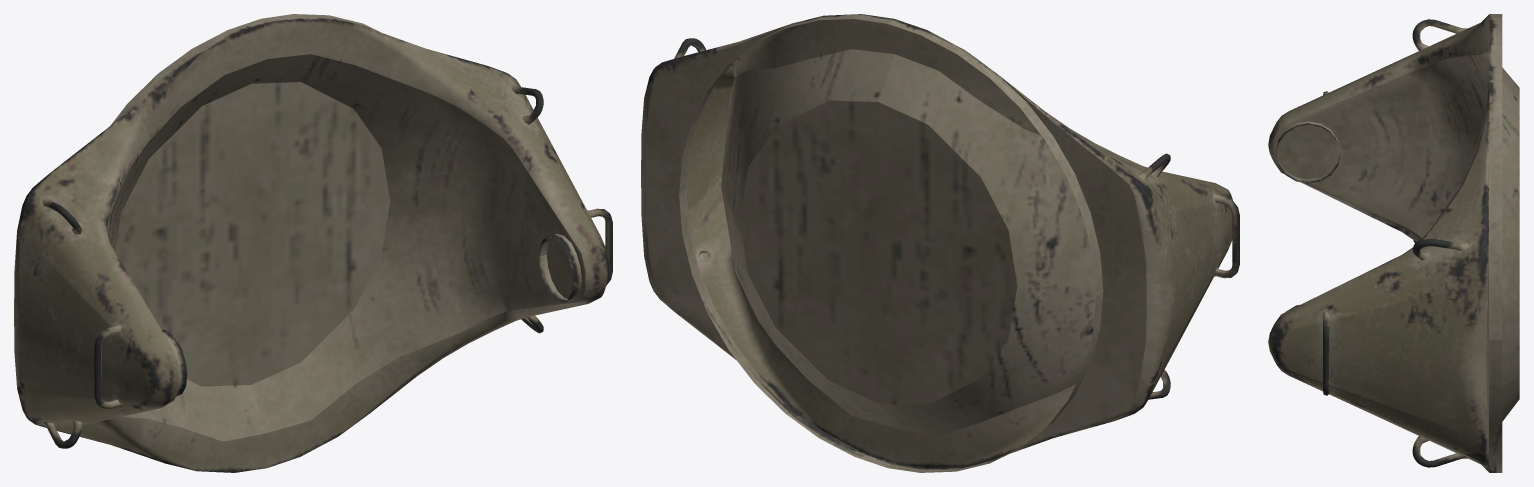
Rendered from Turret_02.glb.
3 views of the same model, side by side, from view 1: azimuth 30°, elevation 25°; view 2: azimuth 150°, elevation 25°; view 3: azimuth 270°, elevation 25° (orthographic). The views are drawn at different scales.
Parts seen in each view (by area): view 1: set_0_group_0; view 2: set_0_group_0; view 3: set_0_group_0.
Boxes of the visible parts, bbox=[...] form: set_0_group_0: bbox=[14, 14, 612, 472]; set_0_group_0: bbox=[641, 14, 1239, 472]; set_0_group_0: bbox=[1268, 14, 1519, 472].
Size of the model in its own units: 2.24 by 1.8 by 0.9759.
1 material, 1 textured.
